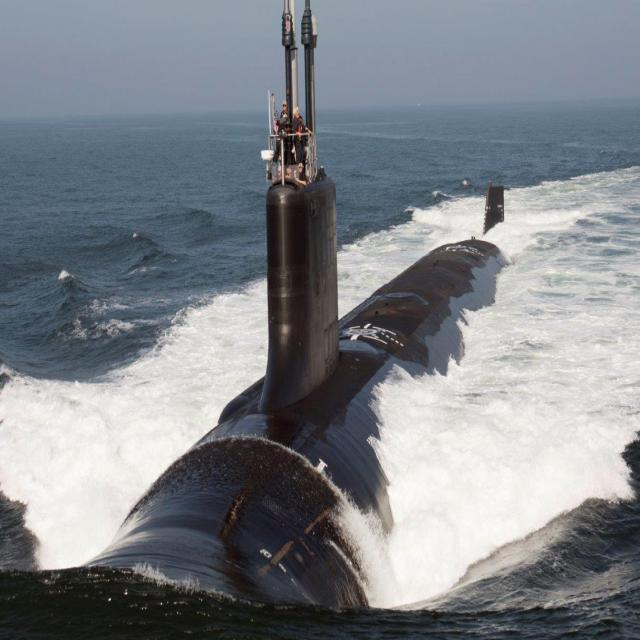submarine: (68, 1, 530, 610)
